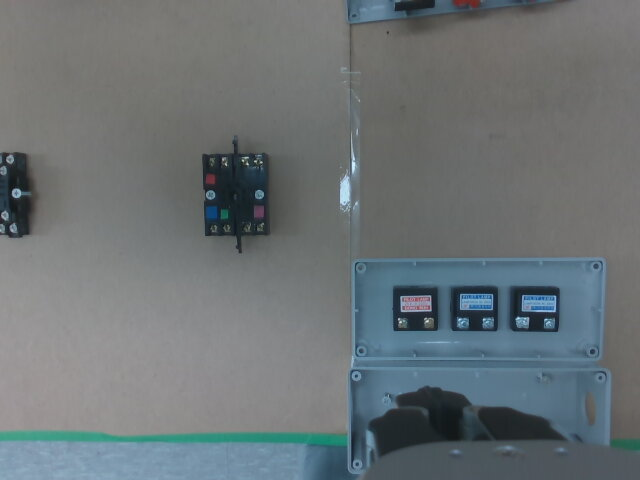L1(1): (397, 318, 408, 329)
L1(2): (423, 317, 434, 329)
L2(1): (457, 317, 469, 329)
L2(2): (482, 317, 494, 329)
L3(1): (516, 317, 529, 329)
L3(2): (544, 318, 555, 329)
